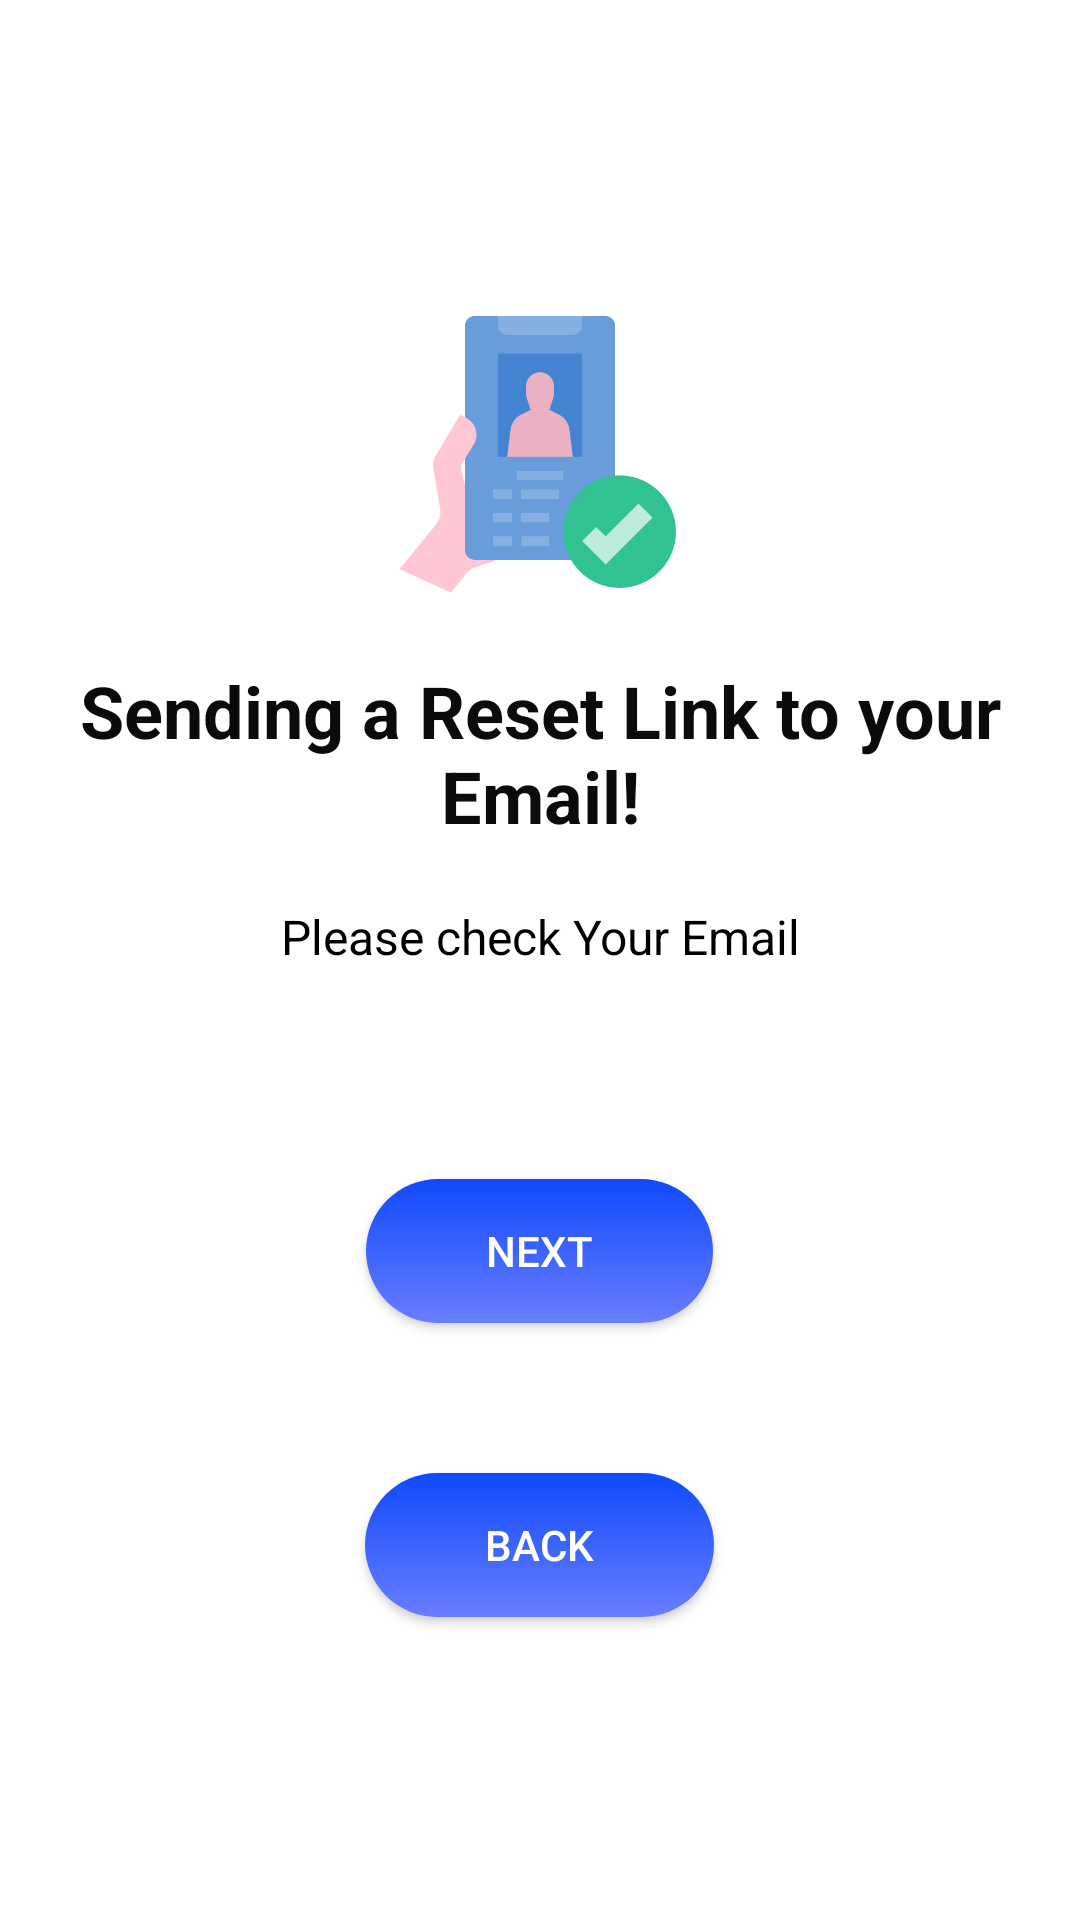

Icon bounding boxes for this 1080x1920 phone screenshot, format (x1, y1, x2, y2):
verification: (400, 316, 676, 593)
